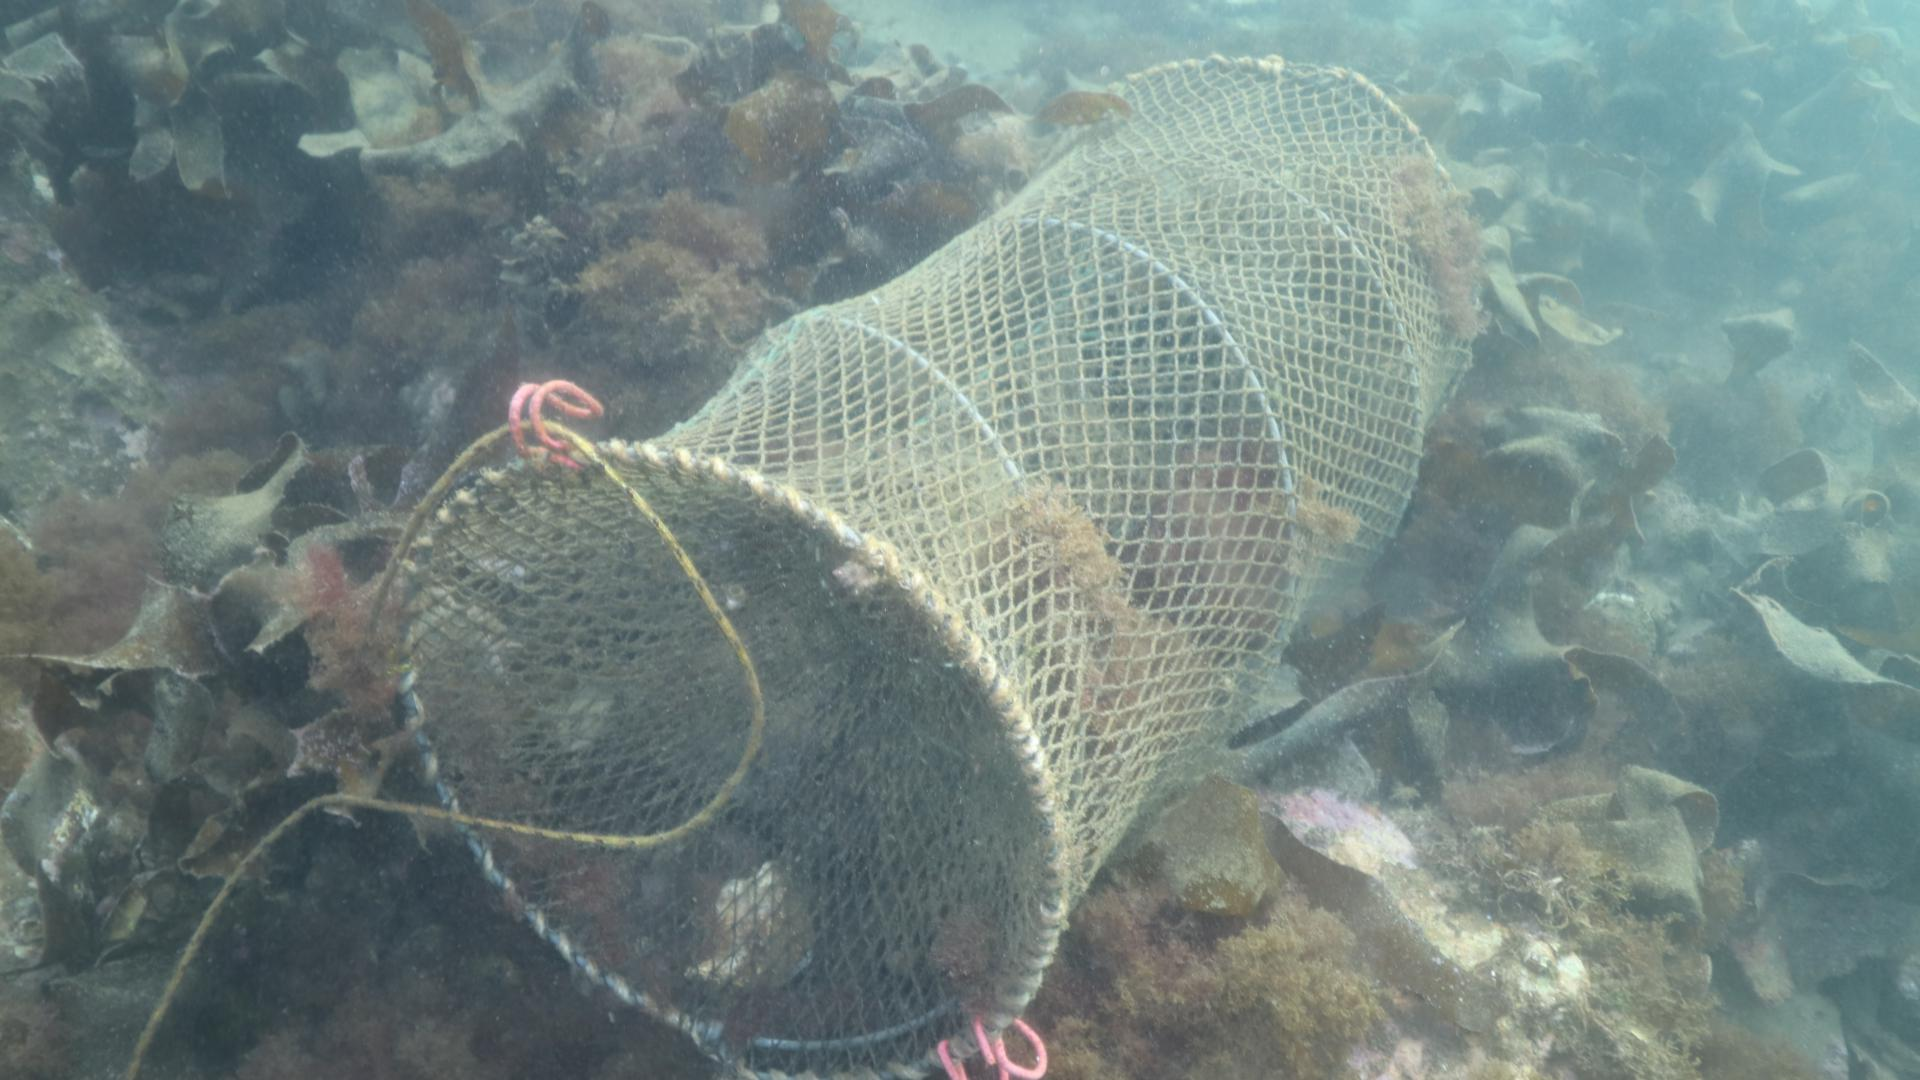rope: (124, 415, 766, 1080)
spring fish trap: (398, 55, 1476, 1080)
